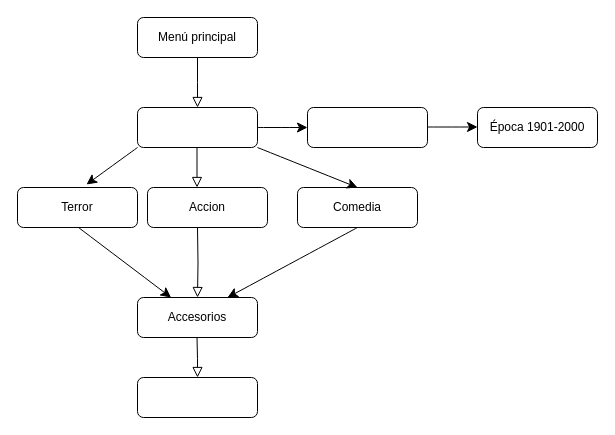
The diagram is 615 pixels wide and 435 high, and some of its shapes have lost their labels. The centre of each missing label's shape, as x and y in pixels:
Material: pixel 197 397
Época 1701-1800: pixel 197 127
Época 1801-1900: pixel 367 127
